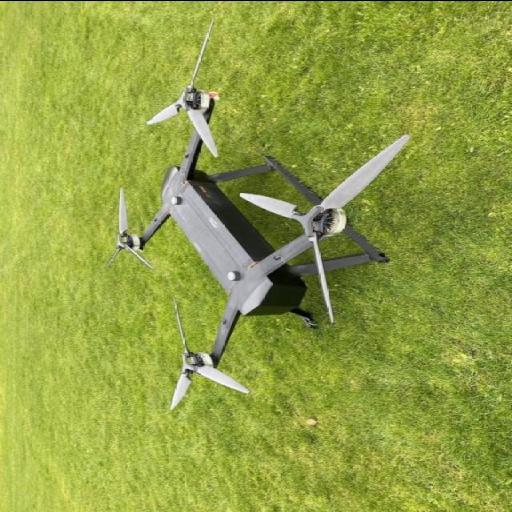uav: (107, 47, 418, 432)
